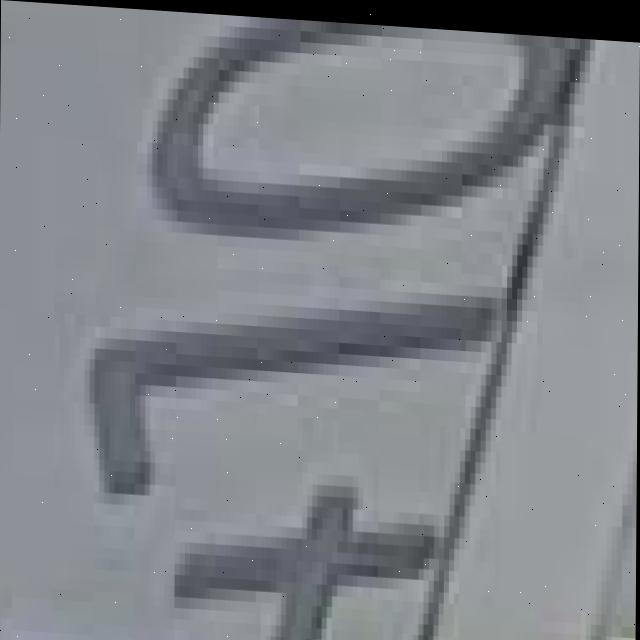character: (80, 251, 505, 538), (140, 9, 579, 282), (0, 452, 444, 640)
